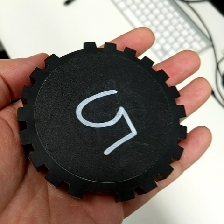gear: (16, 40, 188, 203)
missing: (44, 40, 97, 71), (67, 181, 136, 203)
